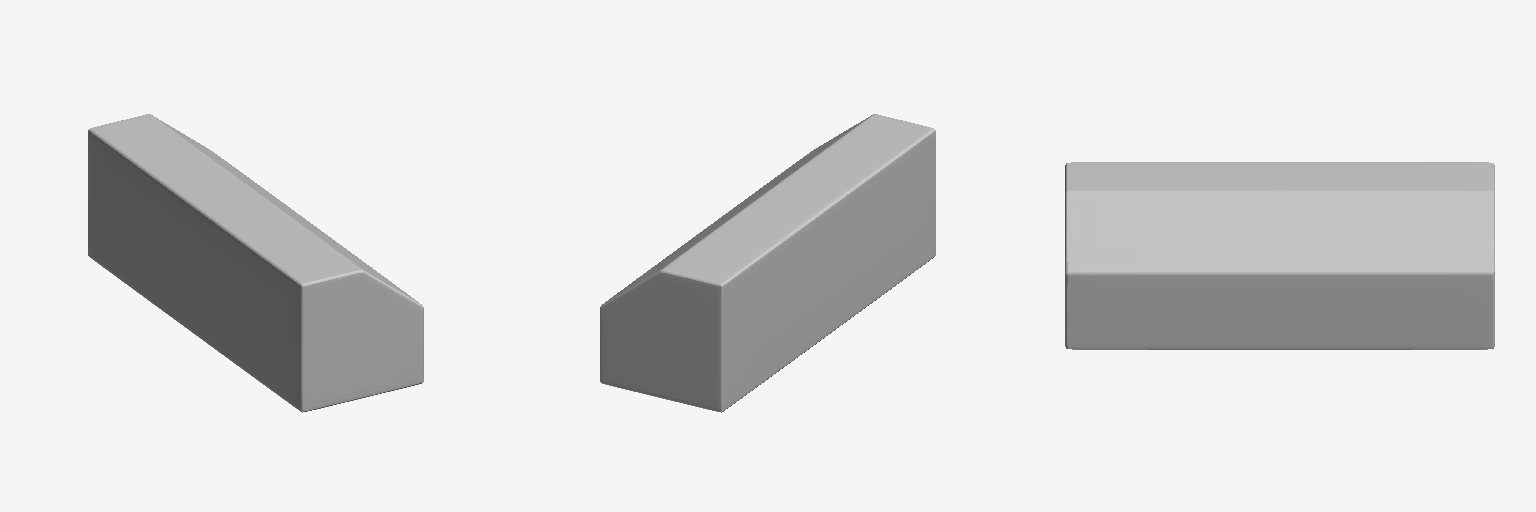
The model's file is Wall_HP(1).obj.
The picture shows the model from 3 angles: view 1: azimuth 30°, elevation 25°; view 2: azimuth 150°, elevation 25°; view 3: azimuth 270°, elevation 25°; orthographic projection.
Visible parts, largest first — view 1: Wall; view 2: Wall; view 3: Wall.
Boxes of the visible parts, x1,y1,x2,y2 form: Wall: [88, 114, 423, 412]; Wall: [600, 114, 935, 412]; Wall: [1065, 162, 1494, 349].
Size of the model in its own units: 0.9995 by 0.9997 by 3.